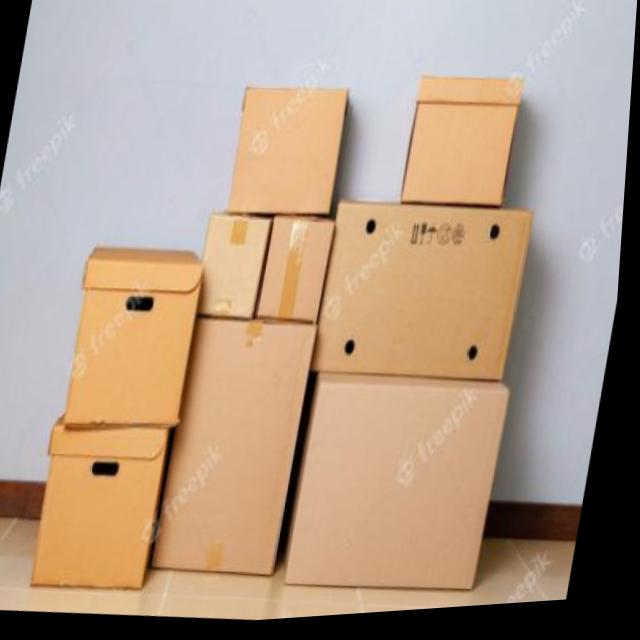box: (285, 361, 522, 622), (151, 300, 327, 605), (309, 194, 543, 403), (52, 229, 217, 444), (24, 409, 184, 601), (394, 64, 551, 239), (222, 58, 370, 236), (249, 201, 342, 345), (193, 204, 278, 337)
